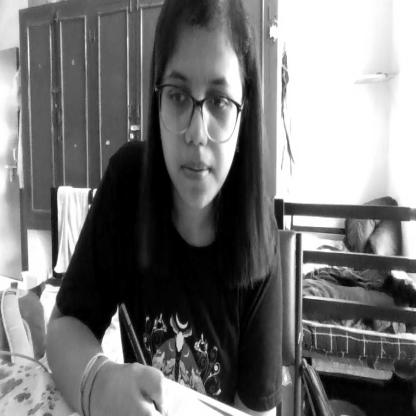Normal: (152, 0, 248, 218)
